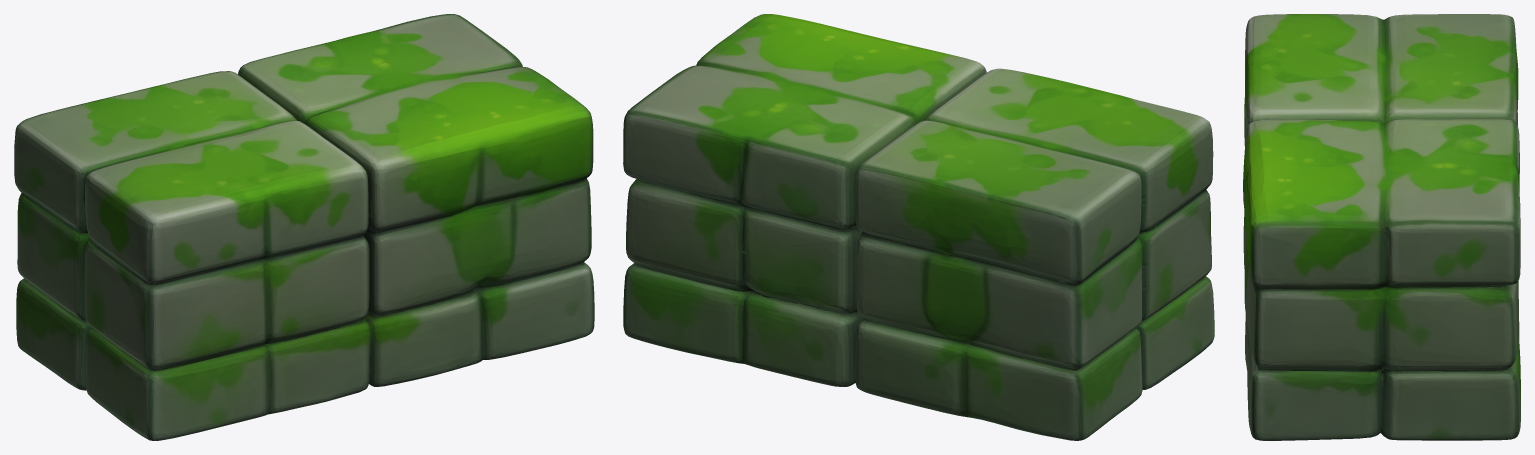
Rendered from tile_stonegrassy.glb.
3 renders of one model, left to right at view 1: azimuth 30°, elevation 25°; view 2: azimuth 150°, elevation 25°; view 3: azimuth 270°, elevation 25°, orthographic. The views are drawn at different scales.
Visible parts, largest first — view 1: world; view 2: world; view 3: world.
Part boxes in pixels (x1,y1,x2,y2): world: (14, 14, 594, 440); world: (623, 14, 1214, 440); world: (1243, 14, 1520, 440).
Bounding box in the file's own units: 0.9894 × 0.4823 × 0.5436.
1 material, 1 textured.
